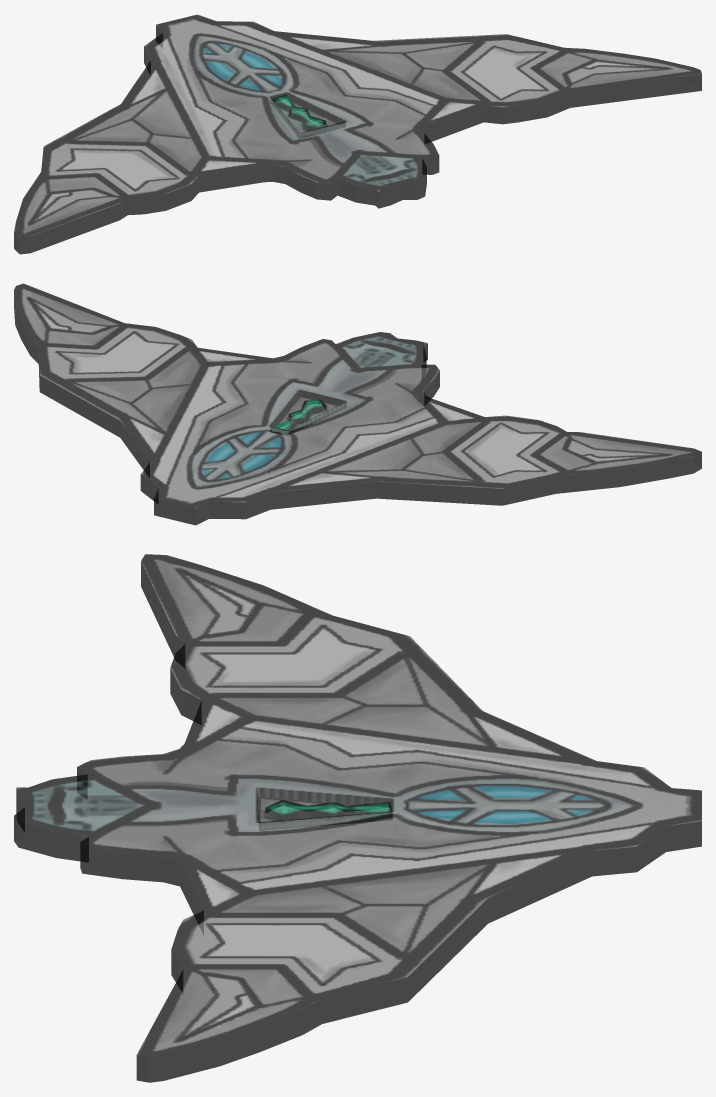
File: SpaceShipSecondPlayer.fbx
The picture shows the model from 3 angles, top to bottom: view 1: azimuth 30°, elevation 25°; view 2: azimuth 150°, elevation 25°; view 3: azimuth 270°, elevation 25°; orthographic projection. The views are drawn at different scales.
Visible parts, largest first — view 1: Cube.001; view 2: Cube.001; view 3: Cube.001.
Boxes of the visible parts, x1,y1,x2,y2 form: Cube.001: (14,14,701,254); Cube.001: (14,283,701,525); Cube.001: (14,554,701,1082).
Bounding box in the file's own units: 779 × 18.43 × 450.
1 material, 1 textured.
